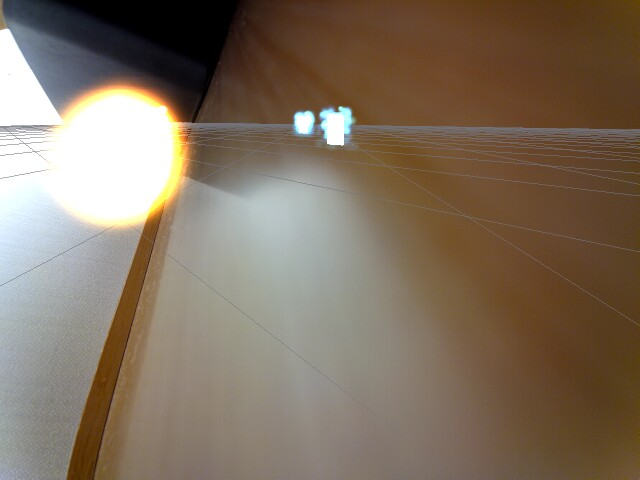firebig: (32, 80, 194, 240)
